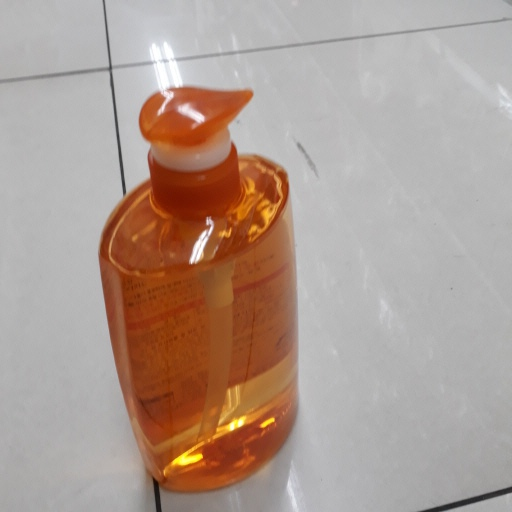Plastic_3: (97, 85, 300, 493)
